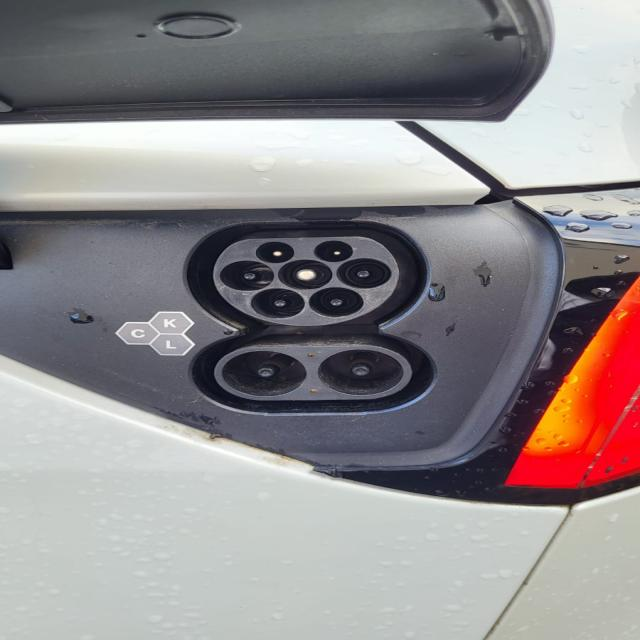inlet: (213, 237, 400, 326)
inlet-above-left: (256, 241, 294, 264)
inlet-above-right: (314, 240, 352, 262)
inlet-below-left: (251, 288, 305, 319)
inlet-below-right: (308, 287, 364, 318)
inlet-circle: (278, 260, 333, 289)
inlet-circle-left: (220, 260, 274, 291)
inlet-circle-right: (336, 258, 392, 289)
inlet-minus: (318, 349, 404, 396)
inlet-plus: (222, 351, 306, 397)
